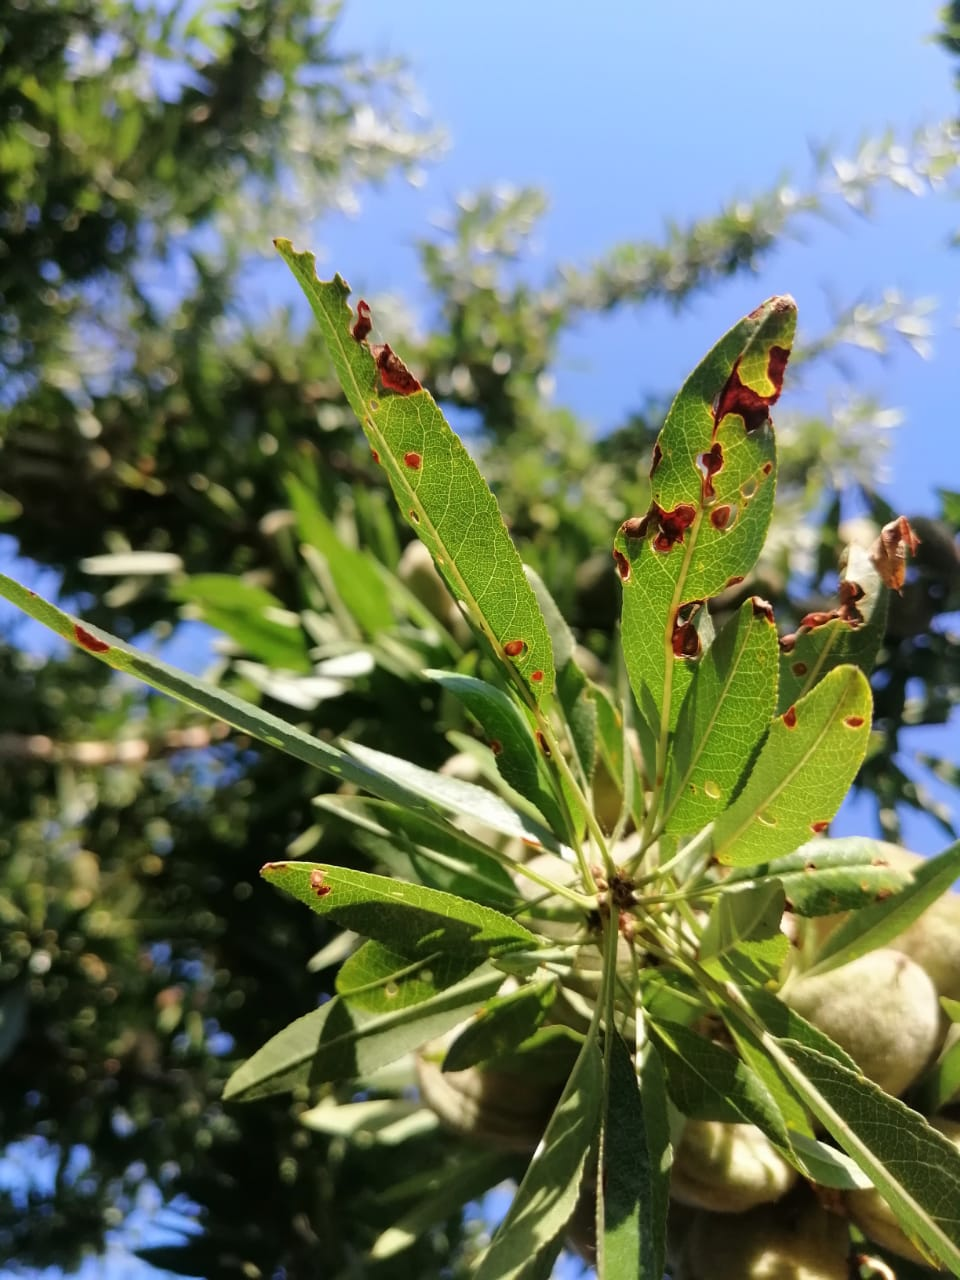coryneum: (268, 231, 555, 715), (613, 298, 796, 746), (715, 665, 876, 865), (261, 857, 551, 968), (661, 598, 782, 838)
